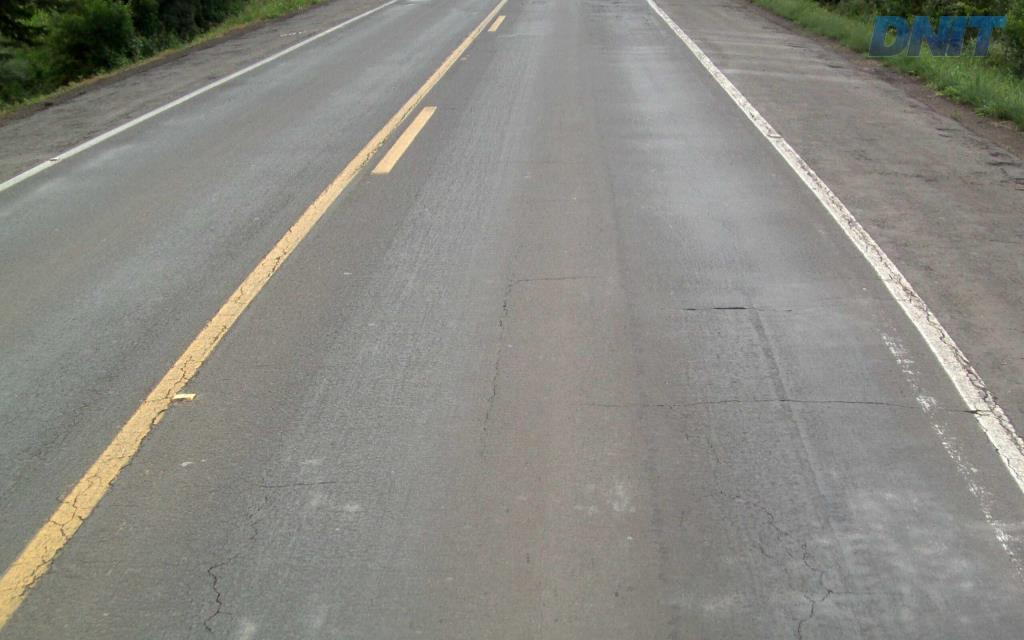crack: (202, 562, 232, 634)
